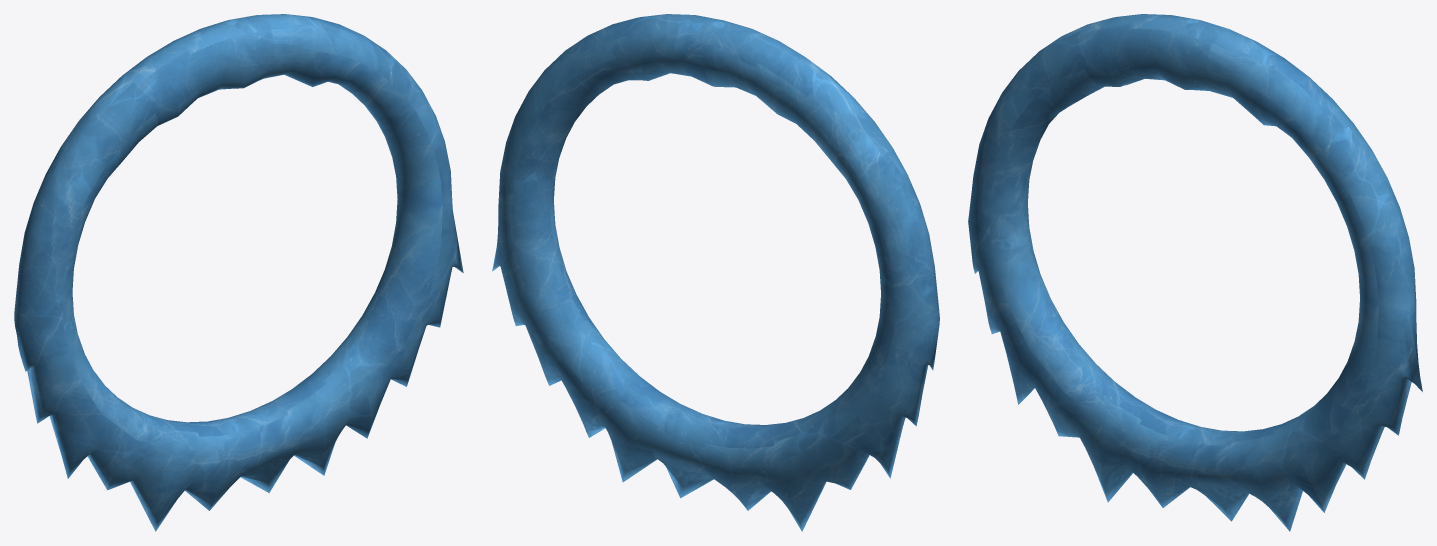
File: IceRing_2.fbx
3 renders of one model, left to right at view 1: azimuth 30°, elevation 25°; view 2: azimuth 150°, elevation 25°; view 3: azimuth 330°, elevation 25°, orthographic. The views are drawn at different scales.
Parts seen in each view (by area): view 1: IceRing; view 2: IceRing; view 3: IceRing.
Part boxes in pixels (x1=…): IceRing: x1=14, y1=14, x2=463, y2=531; IceRing: x1=492, y1=14, x2=939, y2=531; IceRing: x1=968, y1=14, x2=1422, y2=531.
Bounding box in the file's own units: 1102 × 1153 × 118.
1 material, 1 textured.
